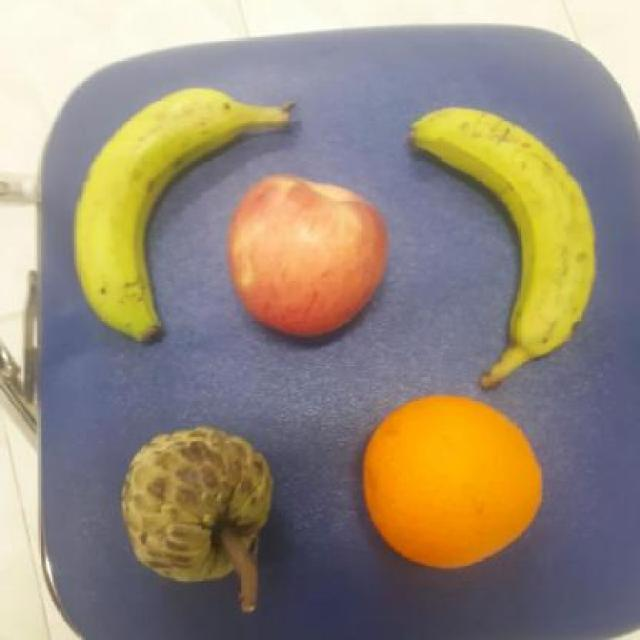apple: (228, 174, 388, 337)
banana: (74, 87, 298, 344), (409, 104, 596, 393)
oren: (362, 393, 547, 569)
sugar apple: (122, 427, 276, 581)
